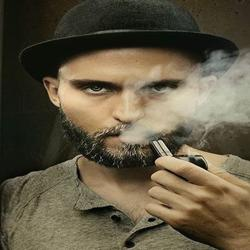smoking: (148, 139, 250, 245)
